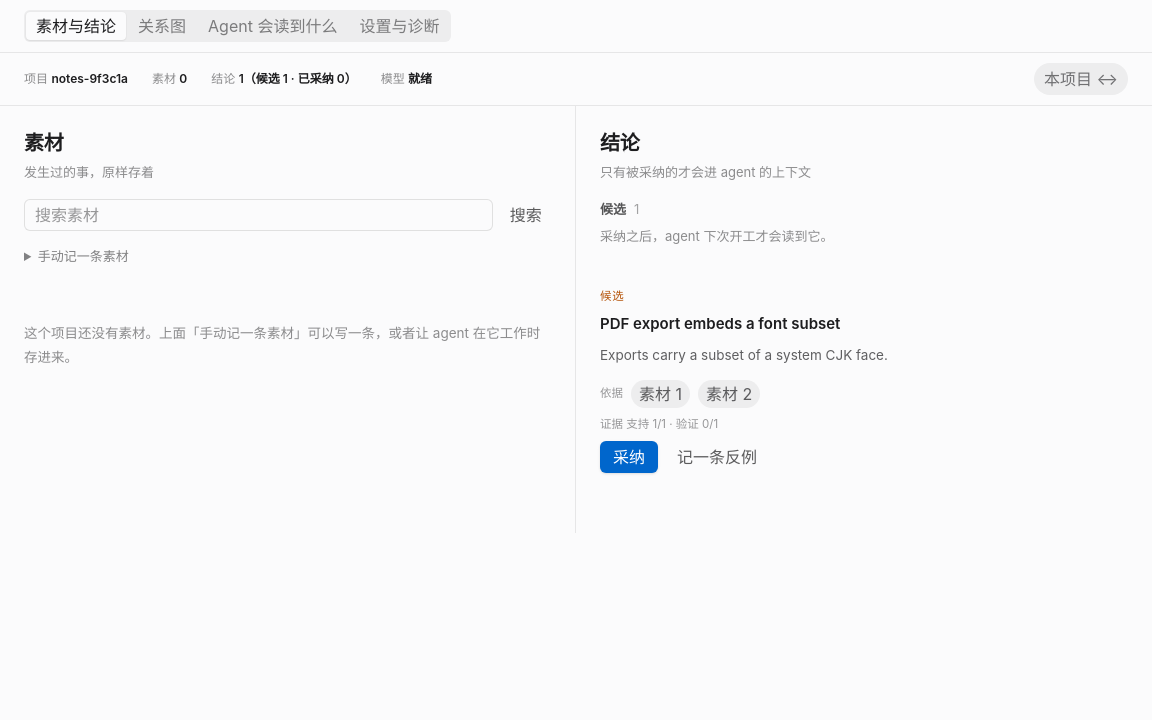
Test case: MemoryPanel › shows the gate's own reasons when adoption is refused
Click the button "采纳". click: [629, 457]
box: [600,441,658,473]
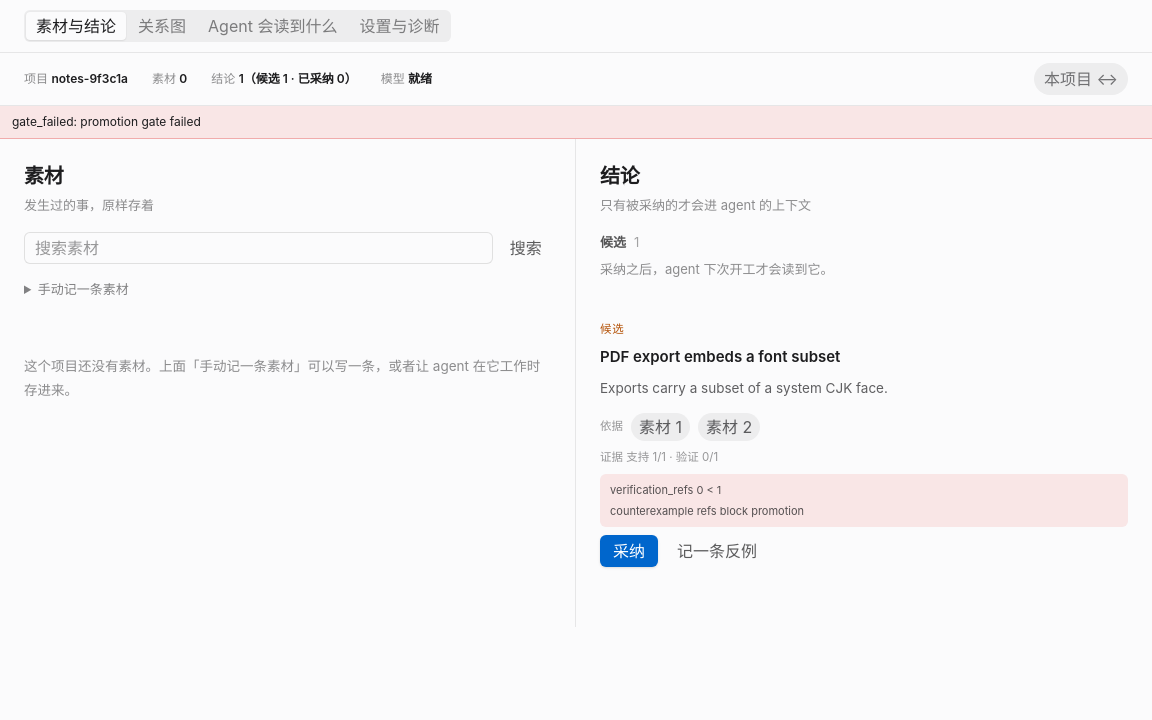
Expected: the text "verification_refs 0 < 1" is shown, [610,483,721,497]
Expected: the text "counterexample refs block promotion" is shown, [610,504,804,518]
